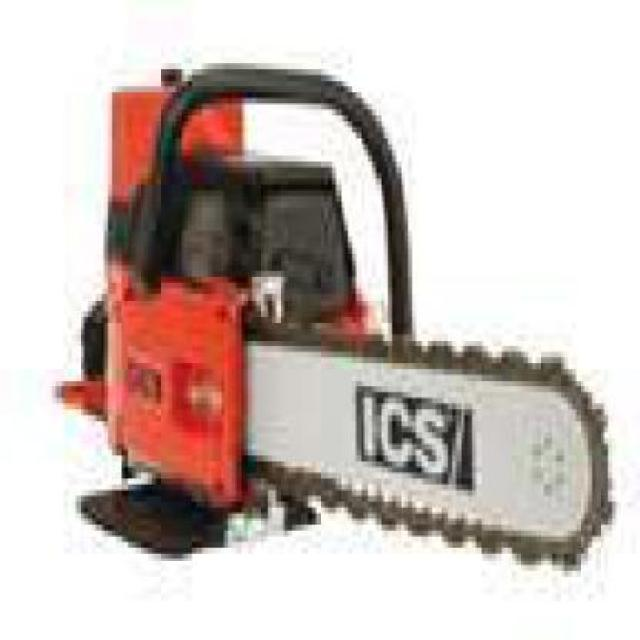Chainsaw: (51, 63, 615, 583)
